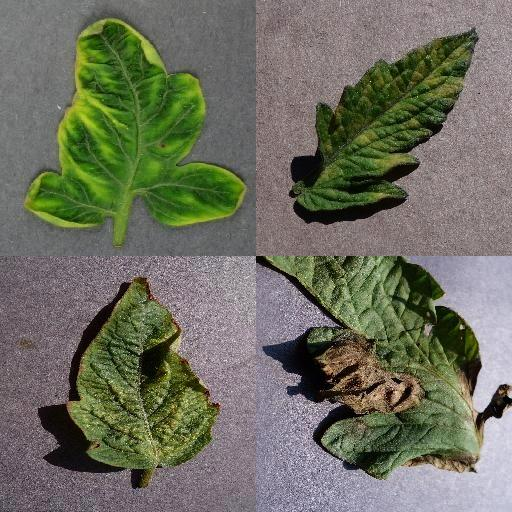Late Blight: (260, 256, 512, 480)
Leaf Mold: (294, 25, 478, 213)
Spider Mites: (68, 273, 222, 467)
Yellow Leaf Curl Virus: (26, 19, 247, 229)
